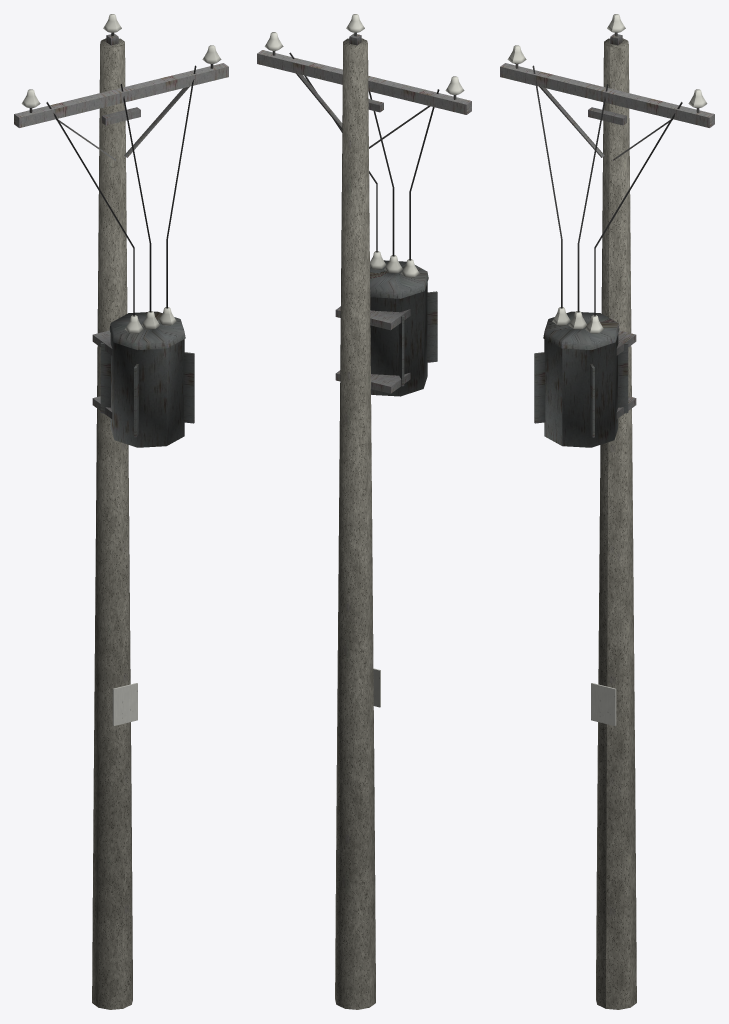
Rendered from pole_tx.glb.
3 renders of one model, left to right at view 1: azimuth 30°, elevation 25°; view 2: azimuth 150°, elevation 25°; view 3: azimuth 330°, elevation 25°, orthographic.
Visible parts, largest first — view 1: pole_tx_mesh; view 2: pole_tx_mesh; view 3: pole_tx_mesh.
Boxes of the visible parts, box(x1,y1,x2,y2) form: pole_tx_mesh: box(14, 14, 228, 1009); pole_tx_mesh: box(257, 14, 471, 1009); pole_tx_mesh: box(500, 14, 714, 1009).
Bounding box in the file's own units: 1.9 × 8.54 × 1.02.
5 materials, 3 textured.
